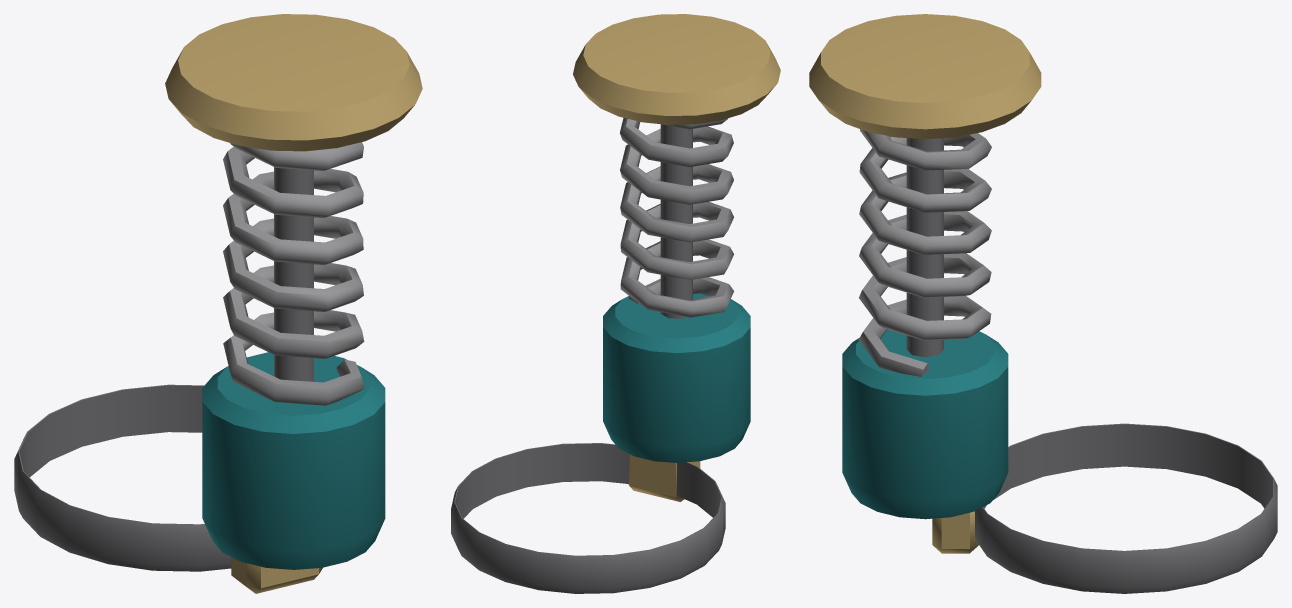
Rendered from Kit_Active_Spring.glb.
3 renders of one model, left to right at view 1: azimuth 30°, elevation 25°; view 2: azimuth 150°, elevation 25°; view 3: azimuth 270°, elevation 25°, orthographic. The views are drawn at different scales.
Visible parts, largest first — view 1: Kit_Active_Spring; view 2: Kit_Active_Spring; view 3: Kit_Active_Spring.
Boxes of the visible parts, left/top/right/bottom form: Kit_Active_Spring: left=14, top=14, right=422, bottom=593; Kit_Active_Spring: left=451, top=14, right=780, bottom=593; Kit_Active_Spring: left=809, top=14, right=1277, bottom=593.
Size of the model in its own units: 0.132 by 0.229 by 0.1998.
